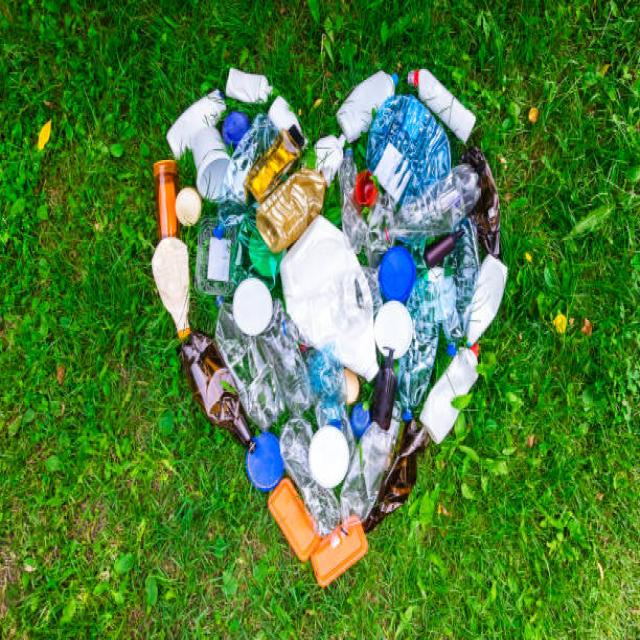plastic: (158, 83, 514, 284), (280, 215, 379, 406), (282, 423, 412, 568), (402, 287, 484, 428), (182, 329, 278, 448), (372, 340, 398, 436)
